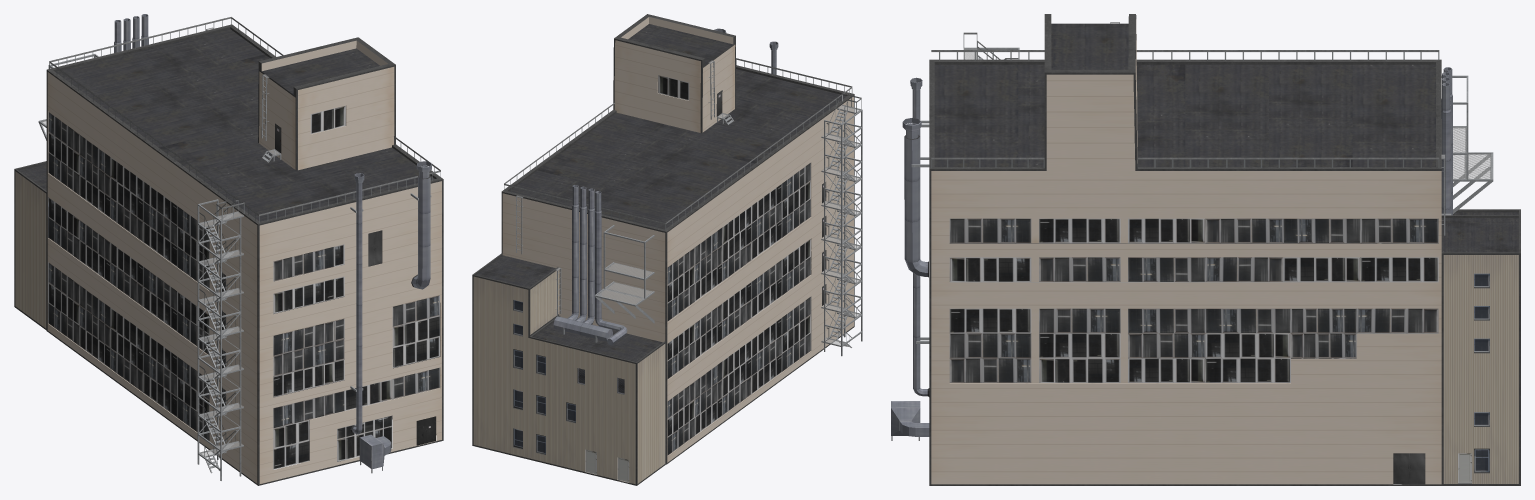
Rendered from plant-building15.glb.
The picture shows the model from 3 angles, left to right: view 1: azimuth 30°, elevation 25°; view 2: azimuth 150°, elevation 25°; view 3: azimuth 270°, elevation 25°; orthographic projection. The views are drawn at different scales.
Visible parts, largest first — view 1: Object8933771; view 2: Object8933771; view 3: Object8933771.
Part boxes in pixels (<box>): Object8933771: <box>14,14,443,485</box>; Object8933771: <box>472,14,862,485</box>; Object8933771: <box>891,14,1520,485</box>.
Bounding box in the file's own units: 21.46 × 33.57 × 46.38.
1 material, 1 textured.
